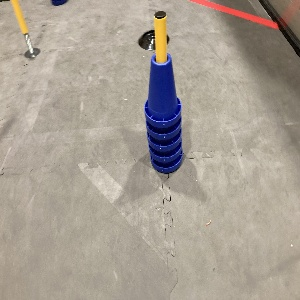Blue_5: (144, 50, 182, 170)
